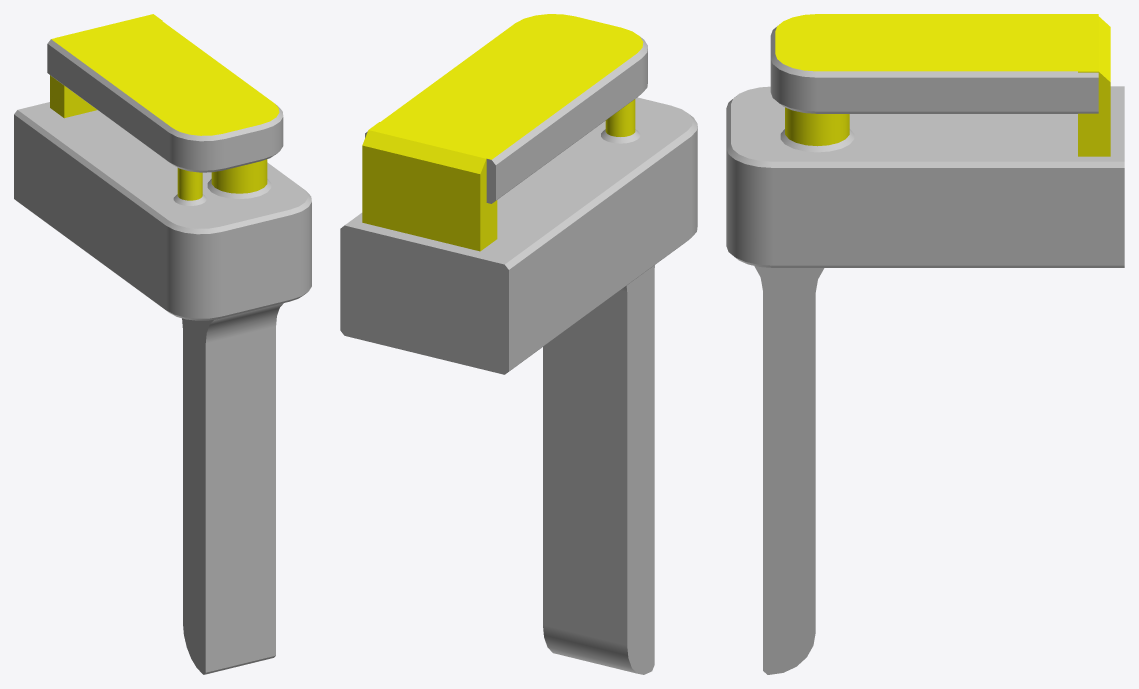
The model's file is 洗砂机02.FBX.
3 views of the same model, side by side, from view 1: azimuth 30°, elevation 25°; view 2: azimuth 150°, elevation 25°; view 3: azimuth 270°, elevation 25° (orthographic). The views are drawn at different scales.
Parts seen in each view (by area): view 1: *SOL459; view 2: *SOL459; view 3: *SOL459.
Part boxes in pixels (x1=…): *SOL459: x1=14, y1=14, x2=311, y2=674; *SOL459: x1=340, y1=14, x2=697, y2=674; *SOL459: x1=726, y1=14, x2=1124, y2=674.
Bounding box in the file's own units: 3.15 × 11.42 × 6.69.
